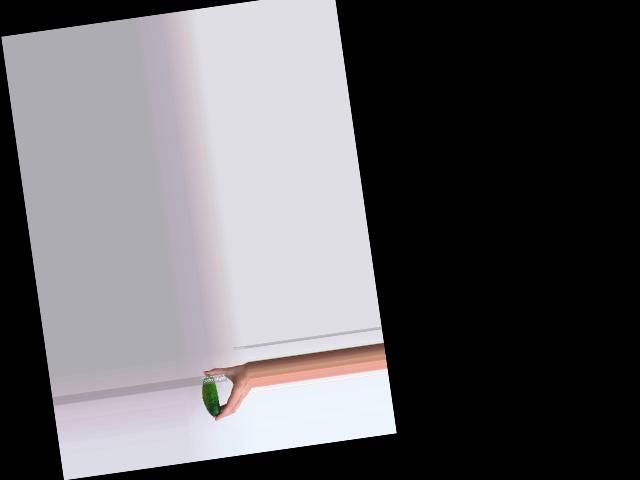cucumber: (199, 373, 220, 417)
